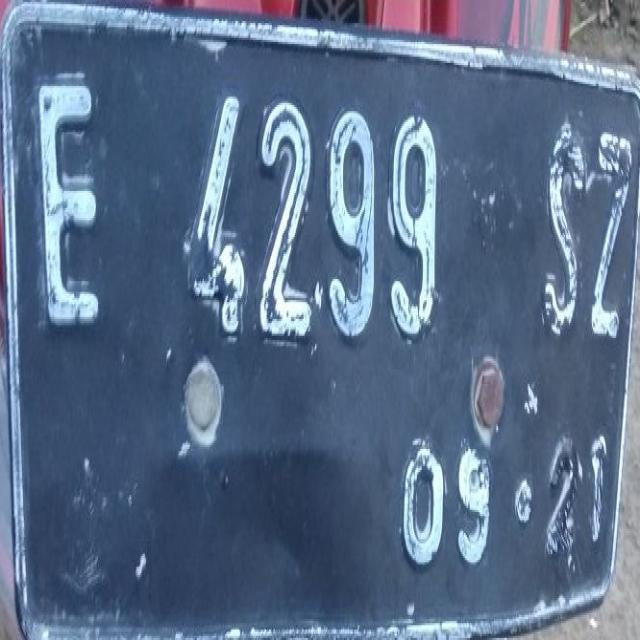plate: (1, 2, 639, 636)
